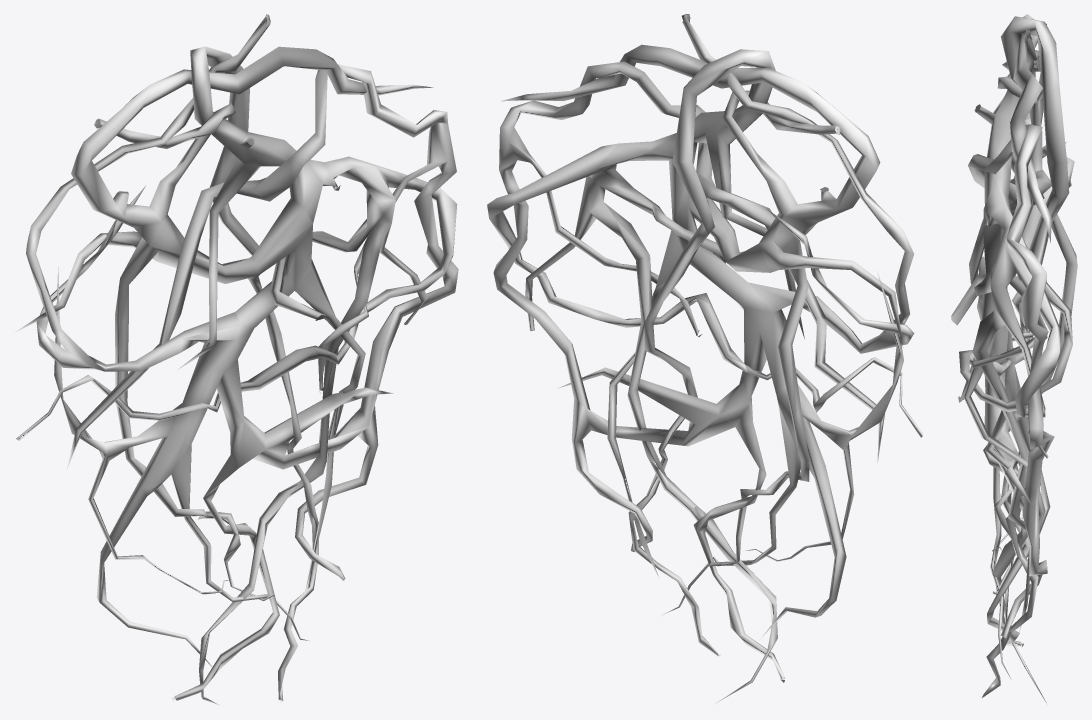
Rendered from Nature_Shield_collider.fbx.
3 renders of one model, left to right at view 1: azimuth 30°, elevation 25°; view 2: azimuth 150°, elevation 25°; view 3: azimuth 270°, elevation 25°, orthographic. The views are drawn at different scales.
Parts seen in each view (by area): view 1: Nature Shield_collider; view 2: Nature Shield_collider; view 3: Nature Shield_collider.
Boxes of the visible parts, x1,y1,x2,y2 form: Nature Shield_collider: (15, 14, 458, 705); Nature Shield_collider: (487, 14, 922, 704); Nature Shield_collider: (951, 14, 1077, 702).
Bounding box in the file's own units: 2.84 × 4.23 × 0.6998.
